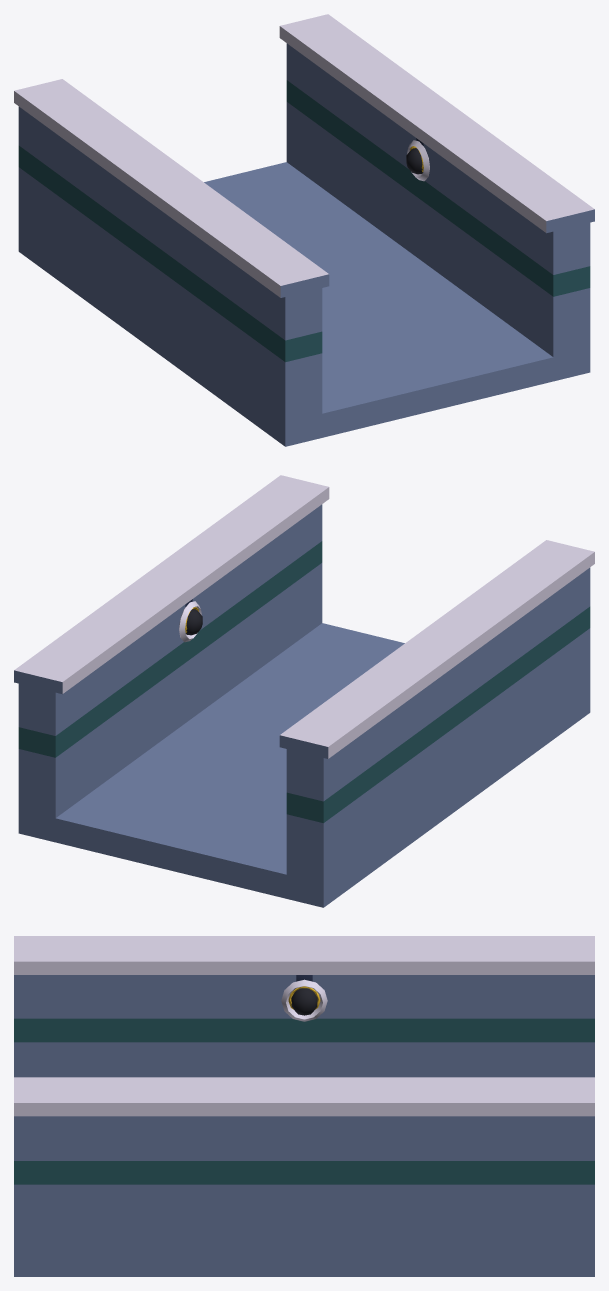
Rendered from W1_Canal_Narrow.fbx.
3 renders of one model, top to bottom at view 1: azimuth 30°, elevation 25°; view 2: azimuth 150°, elevation 25°; view 3: azimuth 270°, elevation 25°, orthographic. The views are drawn at different scales.
Parts seen in each view (by area): view 1: W1_Canal_Narrow; view 2: W1_Canal_Narrow; view 3: W1_Canal_Narrow.
Boxes of the visible parts, x1,y1,x2,y2 form: W1_Canal_Narrow: (14, 14, 594, 446); W1_Canal_Narrow: (14, 475, 594, 907); W1_Canal_Narrow: (14, 936, 594, 1276).
Bounding box in the file's own units: 6.8 × 3.35 × 10.
